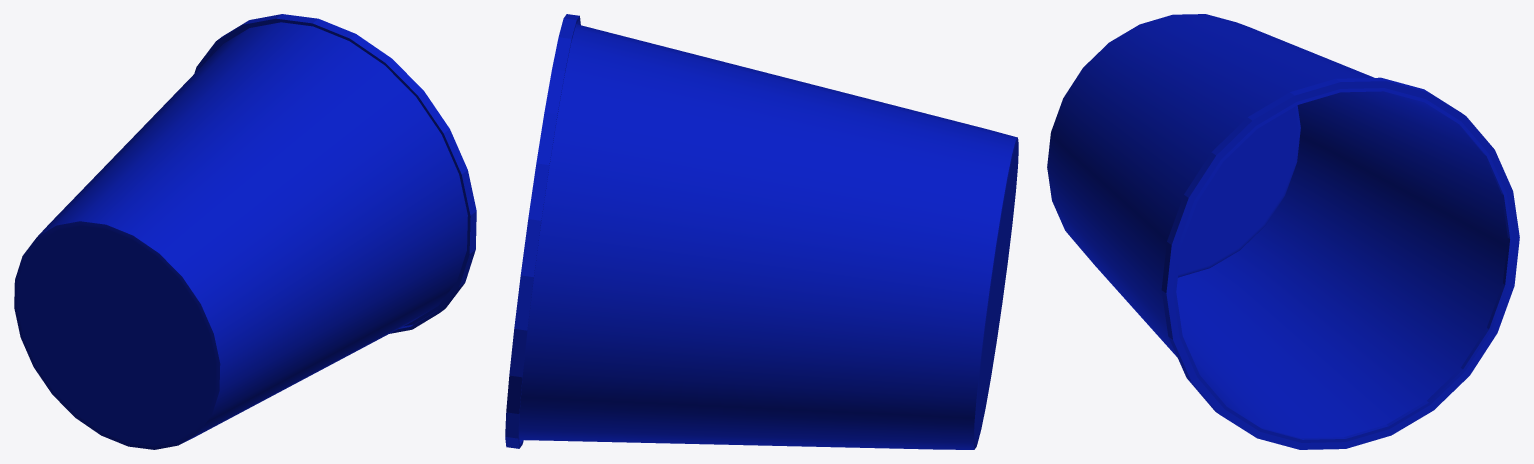
File: 垃圾桶.fbx
3 views of the same model, side by side, from view 1: azimuth 30°, elevation 25°; view 2: azimuth 150°, elevation 25°; view 3: azimuth 270°, elevation 25° (orthographic). The views are drawn at different scales.
Visible parts, largest first — view 1: lajitong; view 2: lajitong; view 3: lajitong.
Boxes of the visible parts, x1,y1,x2,y2 form: lajitong: [14, 14, 476, 449]; lajitong: [505, 14, 1018, 449]; lajitong: [1047, 14, 1519, 449].
Size of the model in its own units: 445 by 335 by 409.
